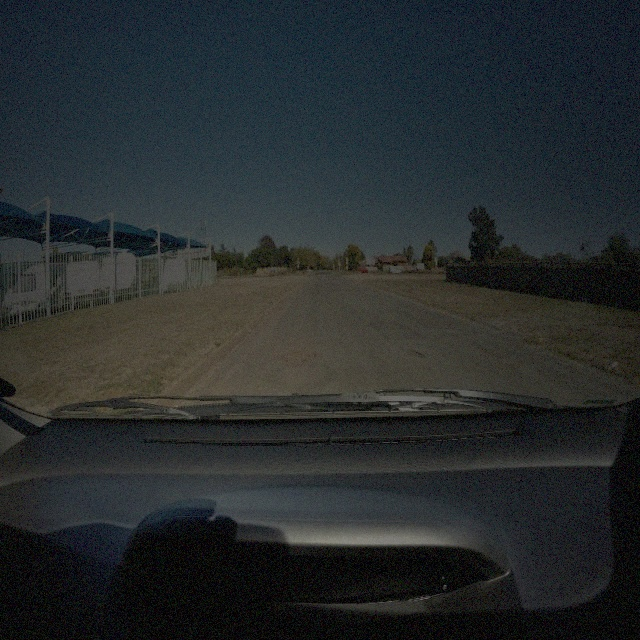pothole: (278, 344, 314, 363), (403, 344, 422, 359), (472, 341, 491, 354)
